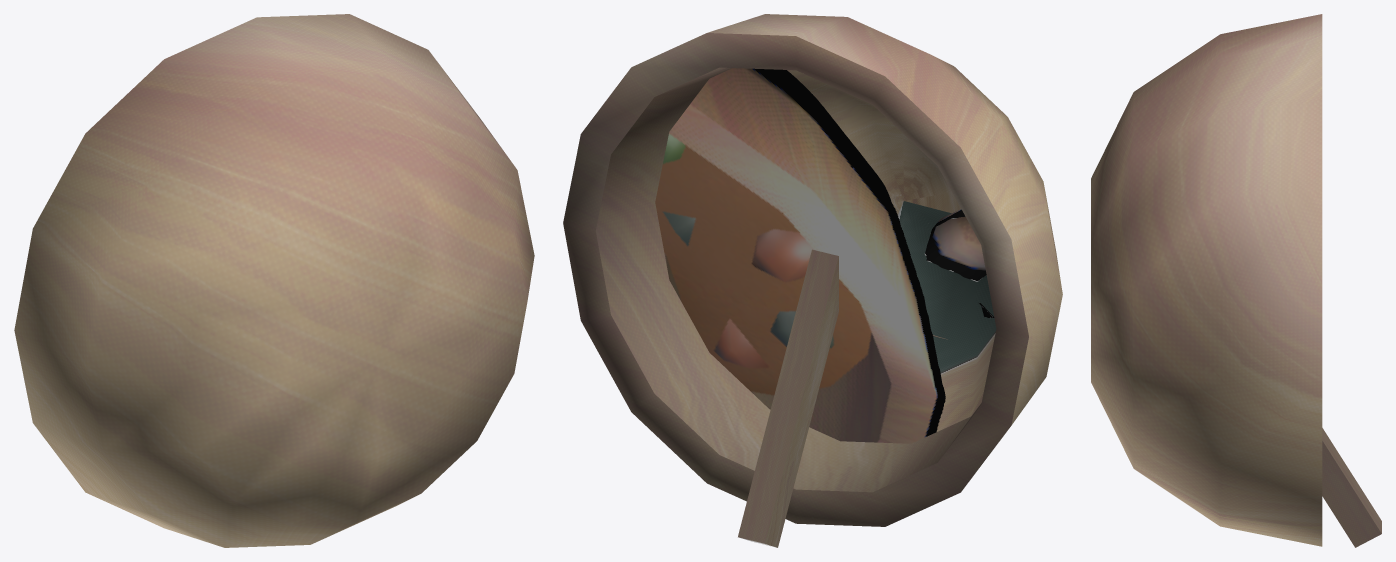
Rendered from gravy.fbx.
The picture shows the model from 3 angles, left to right: view 1: azimuth 30°, elevation 25°; view 2: azimuth 150°, elevation 25°; view 3: azimuth 270°, elevation 25°; orthographic projection. The views are drawn at different scales.
Visible parts, largest first — view 1: Sphere; view 2: Sphere; view 3: Sphere.
Part boxes in pixels (bbox=[...]): Sphere: bbox=[14, 14, 534, 547]; Sphere: bbox=[563, 14, 1062, 547]; Sphere: bbox=[1091, 14, 1381, 547].
Size of the model in its own units: 200 by 205 by 109.
